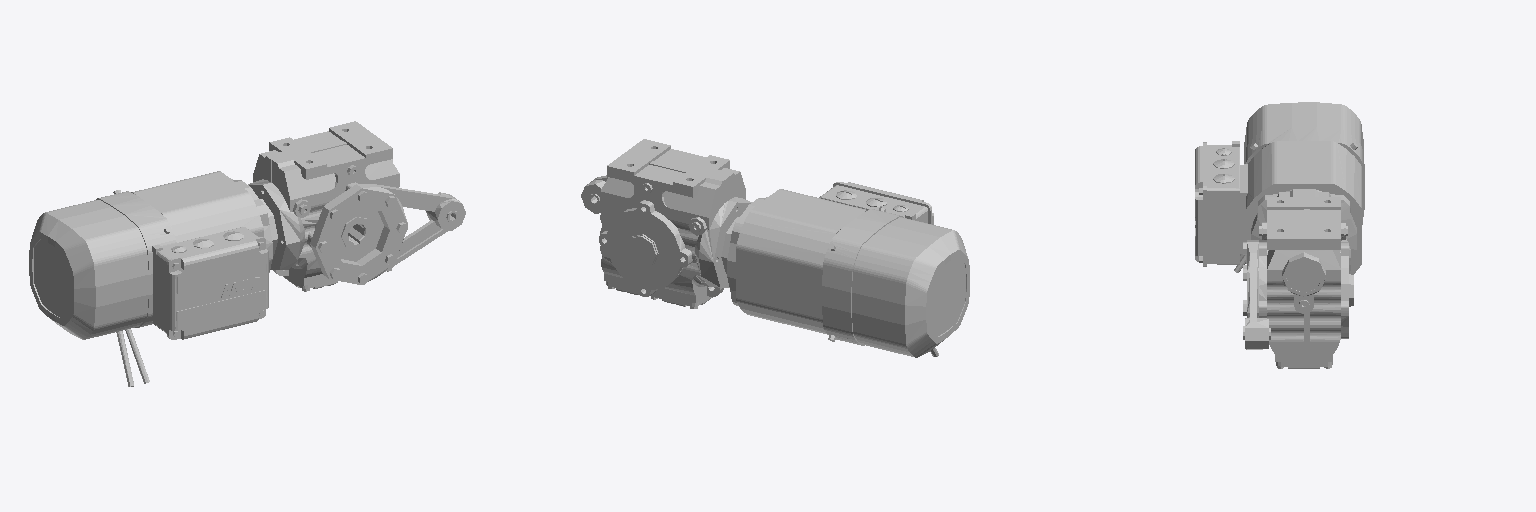
File: sew.obj
3 views of the same model, side by side, from view 1: azimuth 30°, elevation 25°; view 2: azimuth 150°, elevation 25°; view 3: azimuth 270°, elevation 25° (orthographic).
Parts seen in each view (by area): view 1: SA47TDRS80S4BE1HRvkhvvu4tggstiv0znofwqvgu; view 2: SA47TDRS80S4BE1HRvkhvvu4tggstiv0znofwqvgu; view 3: SA47TDRS80S4BE1HRvkhvvu4tggstiv0znofwqvgu.
Part boxes in pixels (x1,y1,x2,y2): SA47TDRS80S4BE1HRvkhvvu4tggstiv0znofwqvgu: (29,121,465,386); SA47TDRS80S4BE1HRvkhvvu4tggstiv0znofwqvgu: (581,139,969,357); SA47TDRS80S4BE1HRvkhvvu4tggstiv0znofwqvgu: (1195,102,1364,368).
Bounding box in the file's own units: 565 × 226 × 217.